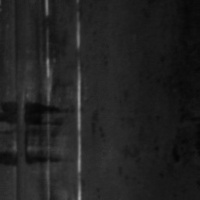inclusion: (1, 101, 54, 166), (10, 3, 25, 93)
scratches: (36, 5, 58, 185), (69, 11, 86, 200)
